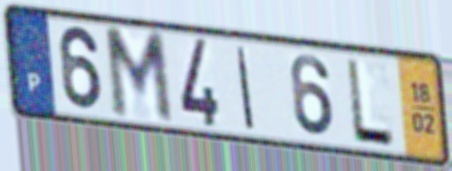4: (176, 36, 221, 131)
6: (57, 24, 105, 113), (288, 53, 337, 140)
I: (234, 43, 257, 132)
L: (343, 55, 399, 150)
M: (101, 25, 177, 129)
